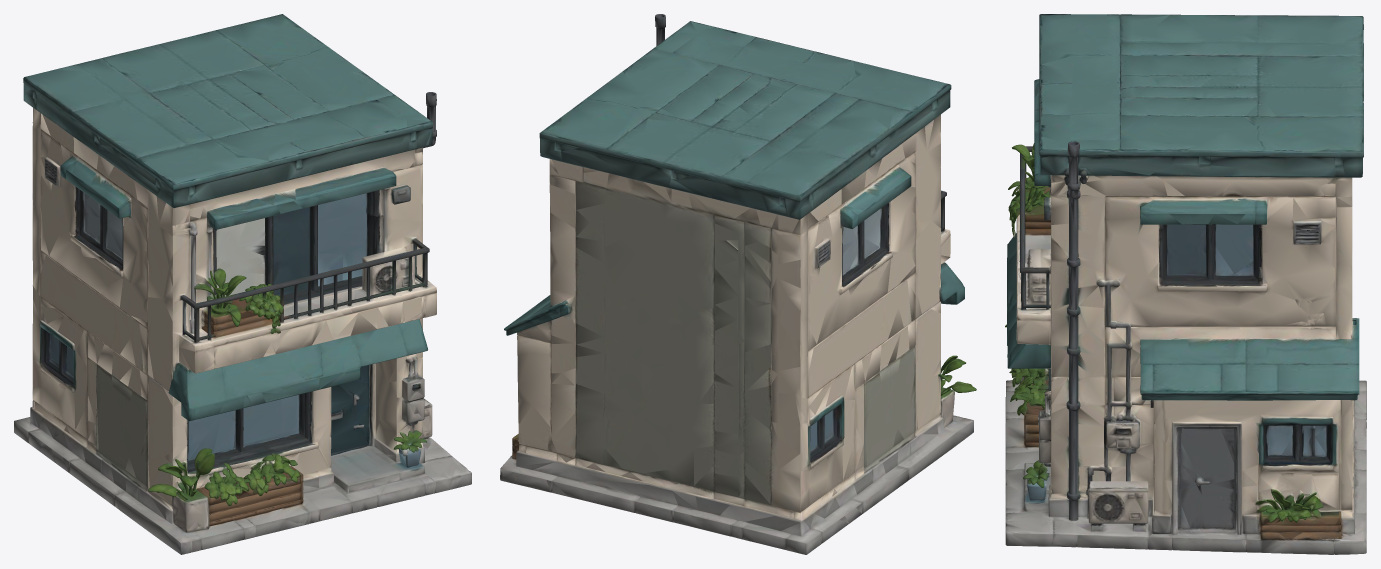
The model's file is building22.glb.
The picture shows the model from 3 angles, left to right: view 1: azimuth 30°, elevation 25°; view 2: azimuth 150°, elevation 25°; view 3: azimuth 270°, elevation 25°; orthographic projection. The views are drawn at different scales.
Parts seen in each view (by area): view 1: tripo_node_33db0b9d-d1a4-46fc-b55b-dcc8f07ce941; view 2: tripo_node_33db0b9d-d1a4-46fc-b55b-dcc8f07ce941; view 3: tripo_node_33db0b9d-d1a4-46fc-b55b-dcc8f07ce941.
Part boxes in pixels (<box>): tripo_node_33db0b9d-d1a4-46fc-b55b-dcc8f07ce941: <box>14,14,471,554</box>; tripo_node_33db0b9d-d1a4-46fc-b55b-dcc8f07ce941: <box>500,14,976,554</box>; tripo_node_33db0b9d-d1a4-46fc-b55b-dcc8f07ce941: <box>1005,14,1366,554</box>.
Bounding box in the file's own units: 0.9216 × 0.9819 × 0.8093.
1 material, 1 textured.
